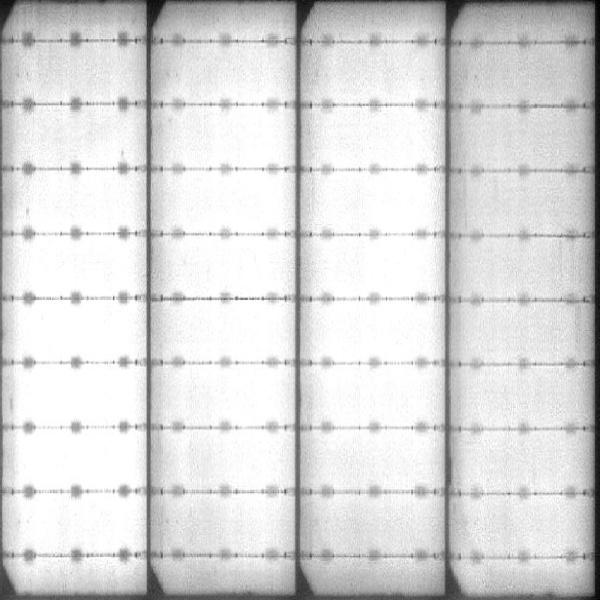hot_spot: (18, 178, 138, 228), (16, 306, 137, 353), (325, 241, 432, 293), (21, 373, 138, 420), (24, 244, 136, 292), (177, 373, 286, 422), (25, 434, 136, 482), (23, 501, 139, 546), (326, 309, 435, 356), (328, 373, 433, 421), (192, 308, 290, 359), (193, 176, 287, 229), (188, 437, 289, 485), (323, 182, 432, 223), (185, 247, 283, 290), (330, 439, 427, 482), (218, 118, 280, 161), (234, 505, 274, 546)
